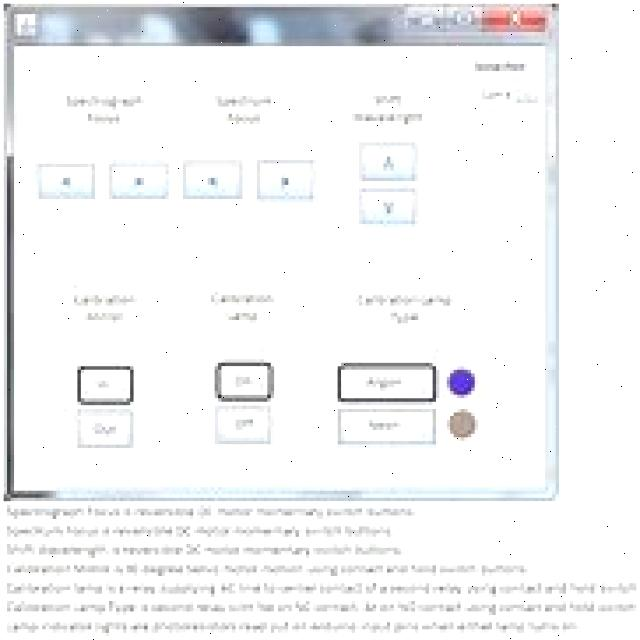button: (334, 360, 438, 405), (334, 404, 439, 446), (211, 403, 277, 447), (253, 158, 319, 202), (212, 358, 276, 403), (181, 156, 244, 200), (106, 158, 169, 202), (76, 361, 137, 405), (76, 406, 135, 450), (36, 160, 94, 203), (356, 143, 419, 182), (356, 187, 418, 226), (480, 4, 547, 34), (404, 6, 447, 36), (444, 3, 481, 36)
icon: (9, 12, 38, 38)
input: (334, 282, 476, 357), (48, 73, 158, 143), (188, 73, 297, 143), (51, 282, 160, 350), (190, 282, 296, 350), (335, 72, 437, 141)
label: (0, 501, 640, 640), (465, 56, 535, 70)
radio: (445, 406, 479, 441), (446, 366, 478, 400)
switch: (473, 79, 546, 111)
